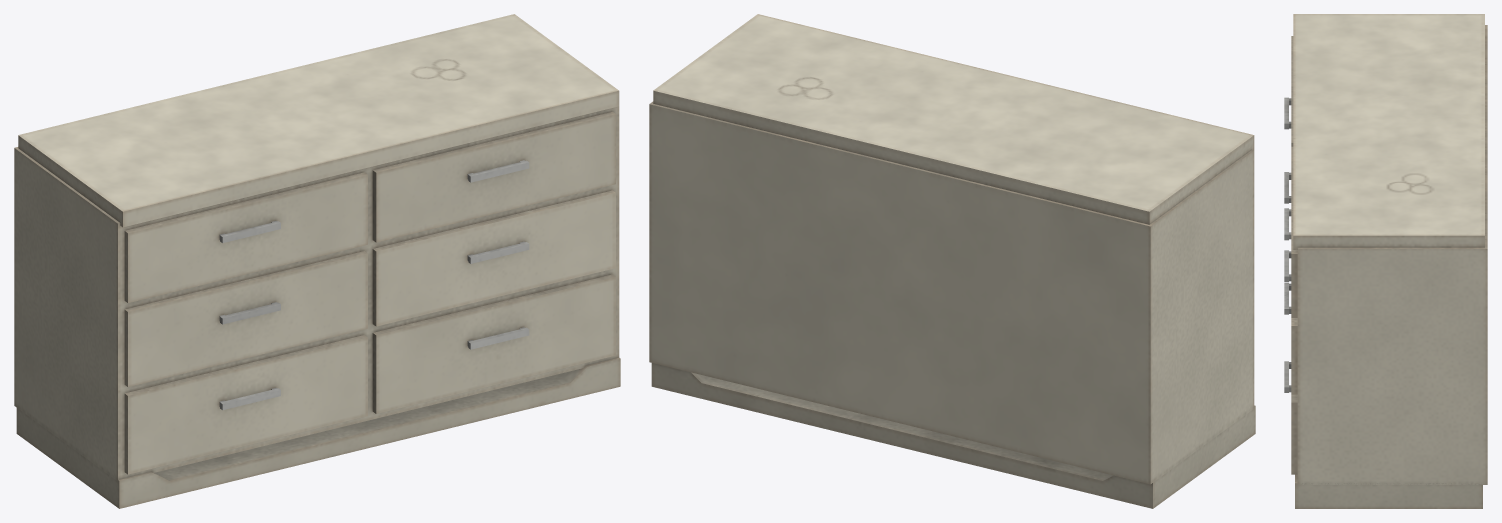
The model's file is H_Dresser_Cream.fbx.
3 views of the same model, side by side, from view 1: azimuth 30°, elevation 25°; view 2: azimuth 150°, elevation 25°; view 3: azimuth 270°, elevation 25° (orthographic). The views are drawn at different scales.
Parts seen in each view (by area): view 1: H_Dresser_Cream; view 2: H_Dresser_Cream; view 3: H_Dresser_Cream.
Boxes of the visible parts, x1,y1,x2,y2 form: H_Dresser_Cream: (14,14,620,508); H_Dresser_Cream: (649,14,1255,508); H_Dresser_Cream: (1284,14,1487,508).
Bounding box in the file's own units: 600 × 340 × 230.
1 material, 1 textured.
